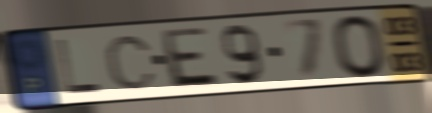7: (280, 19, 326, 84)
9: (220, 22, 266, 87)
C: (102, 33, 159, 92)
E: (160, 25, 223, 90)
L: (53, 37, 104, 97)
O: (328, 12, 390, 80)
